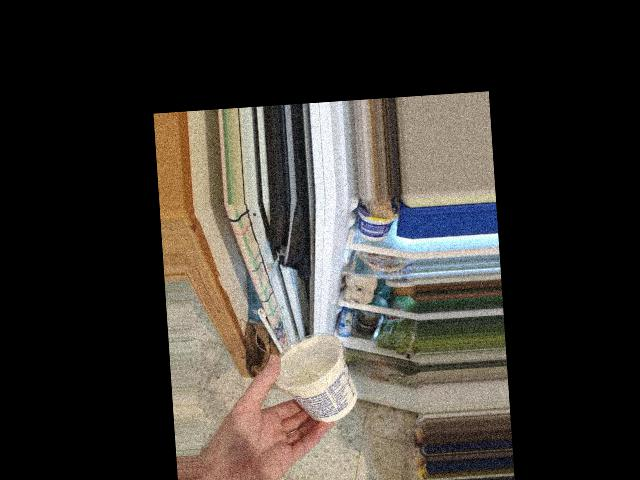cotage: (282, 332, 355, 422)
